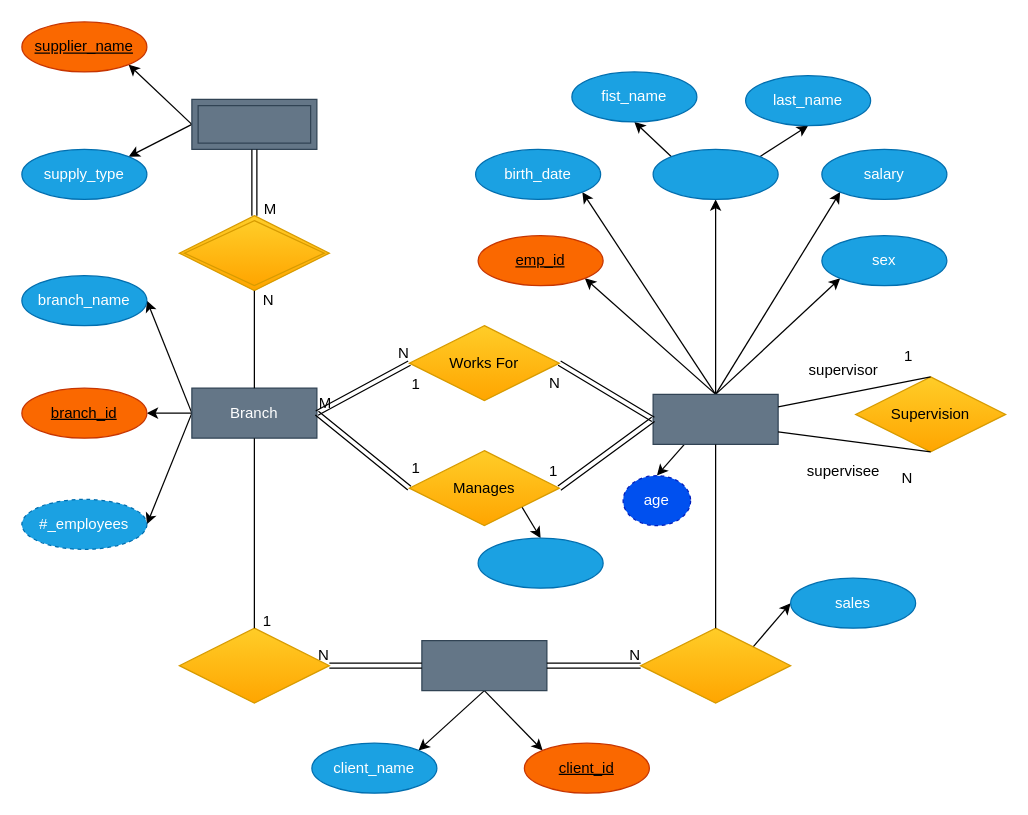
Some shapes in this 1028 by 815 pixel diagram are drawn without their labels. Here are the shapes that lost their labels. From the top down, the centre of each, then its label:
At pixel 254 123: "Branch Supplier".
At pixel 715 173: "name".
At pixel 253 252: "Supplies".
At pixel 715 418: "Employee".
At pixel 540 562: "start_date".
At pixel 253 665: "Handles".
At pixel 484 665: "Client".
At pixel 715 665: "Works With".
